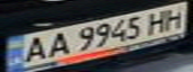4: (109, 16, 130, 43)
5: (124, 14, 151, 40)
9: (90, 20, 115, 50), (72, 24, 96, 53)
A: (15, 34, 54, 65), (42, 29, 72, 60)
H: (142, 8, 175, 35), (160, 3, 190, 32)
